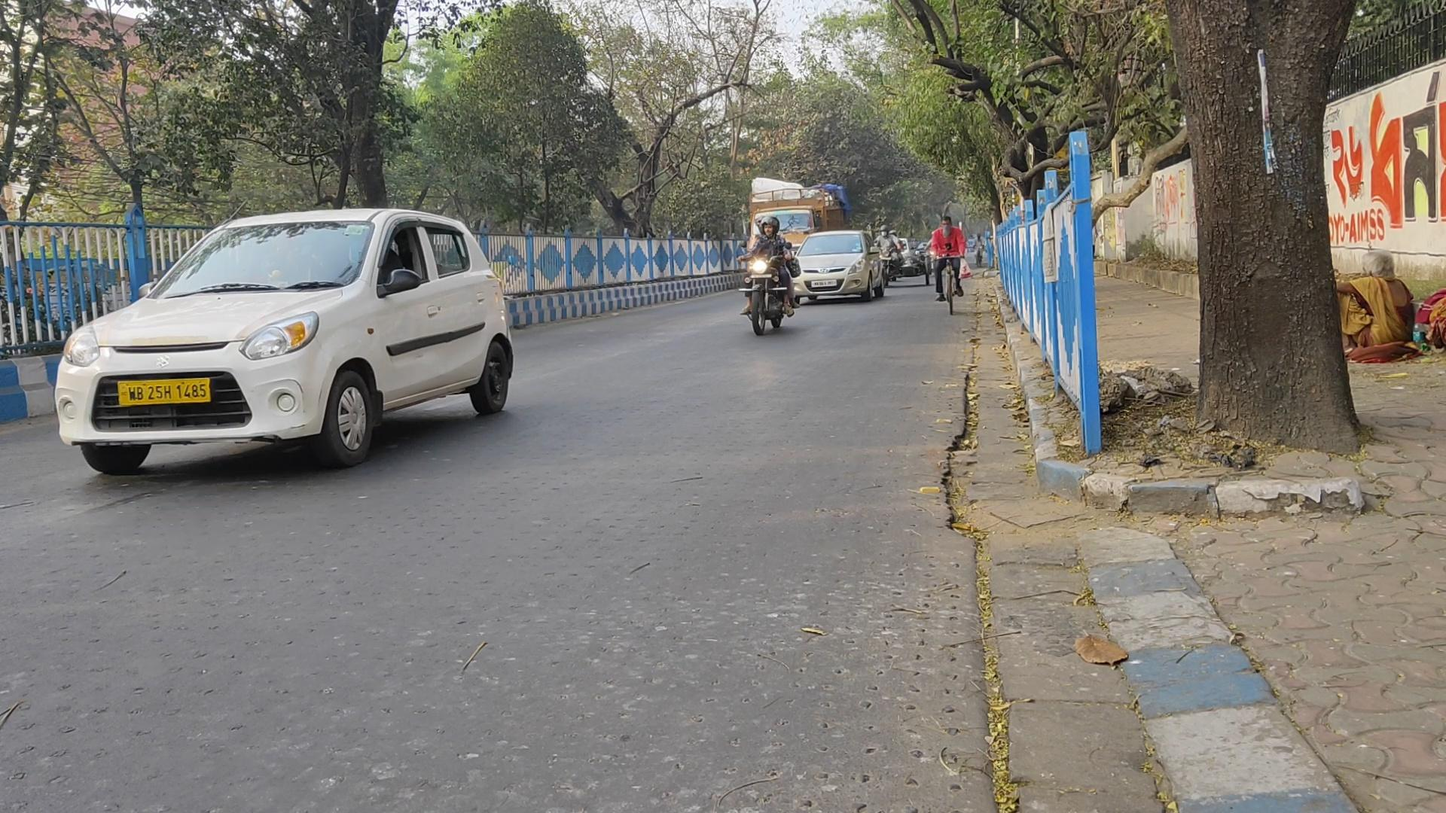bike: (739, 215, 798, 337), (929, 214, 966, 315)
car: (54, 207, 513, 475), (794, 230, 886, 304)
truck: (746, 177, 843, 289)
